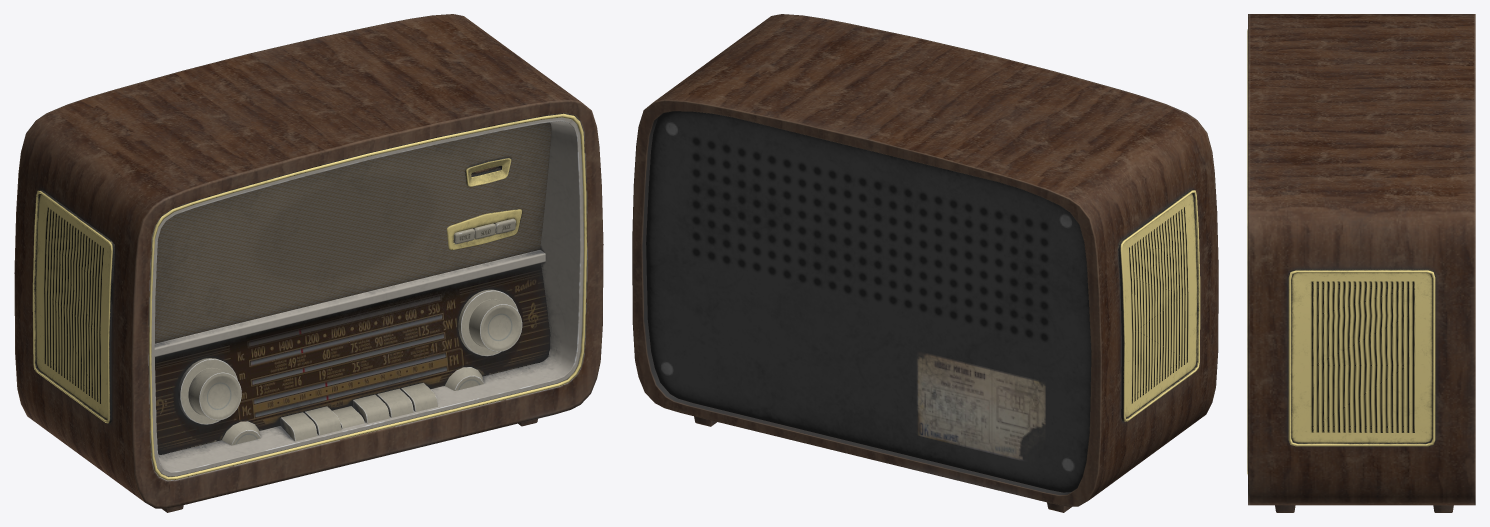
The model's file is old_radio — kopia.fbx.
3 renders of one model, left to right at view 1: azimuth 30°, elevation 25°; view 2: azimuth 150°, elevation 25°; view 3: azimuth 270°, elevation 25°, orthographic. The views are drawn at different scales.
Visible parts, largest first — view 1: base, front, other; view 2: base, other; view 3: base, other.
Boxes of the visible parts, x1,y1,x2,y2 form: base: (14, 14, 603, 512); front: (155, 122, 551, 454); other: (32, 157, 522, 445); base: (632, 14, 1218, 512); other: (1118, 189, 1200, 421); base: (1247, 14, 1475, 512); other: (1288, 269, 1435, 446).
Size of the model in its own units: 3080 by 2088 by 1322.
